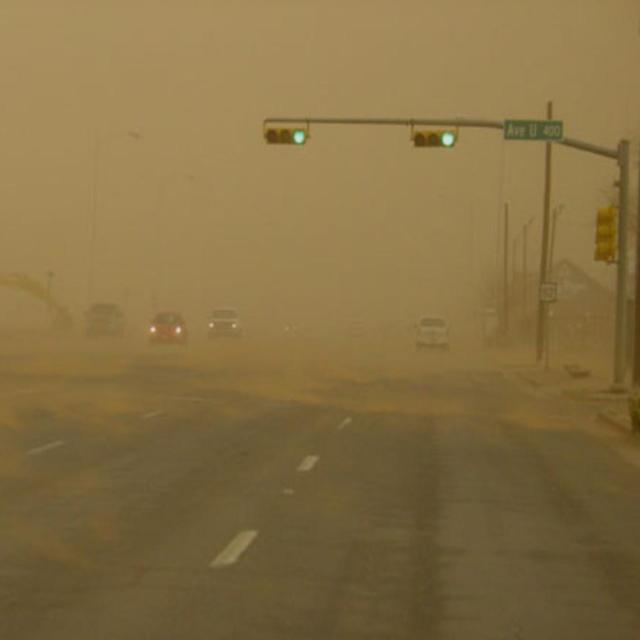Car: (407, 292, 456, 361), (150, 286, 189, 355), (204, 284, 245, 348), (87, 281, 128, 343)
